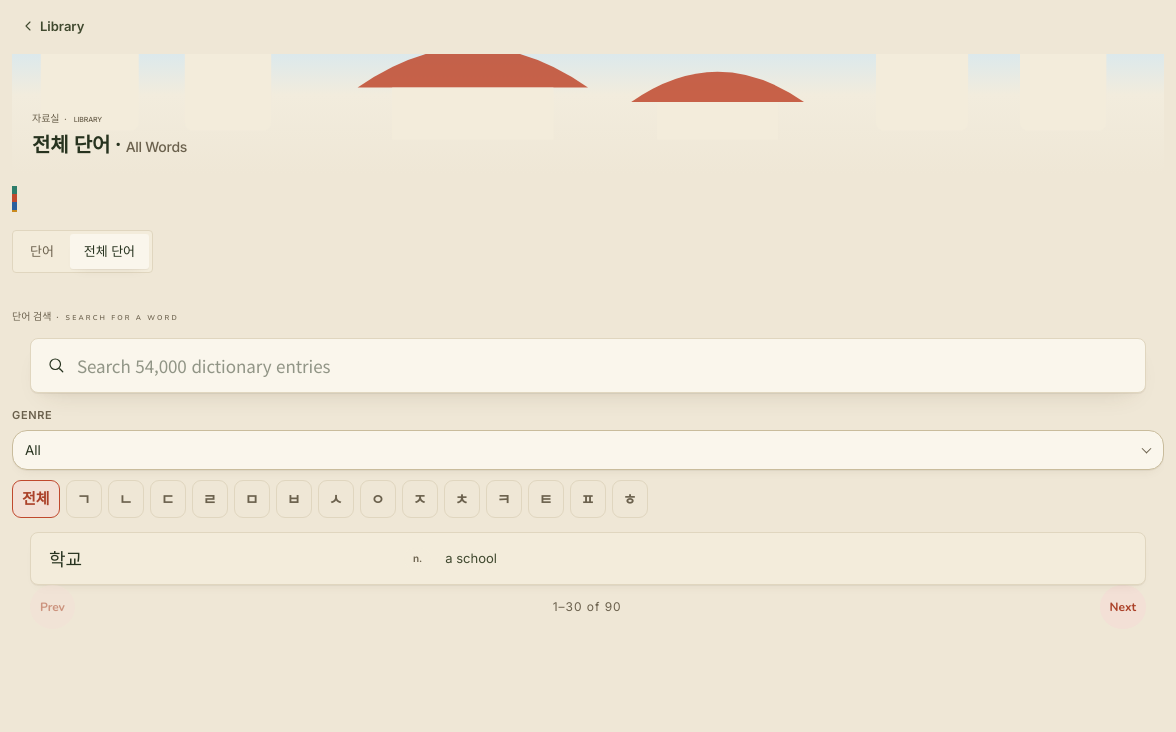
ReviewDictionary — pager › pages the KRDICT browse with Prev/Next and an honest range readout
The image size is (1176, 732).
Expected: the text "학교" is shown, [49,545,82,571]
Expected: the text "1–30 of 90" is shown, [553,598,622,616]
Click the button "Next" at {"x": 1123, "y": 607}, box [1100,585,1146,629]
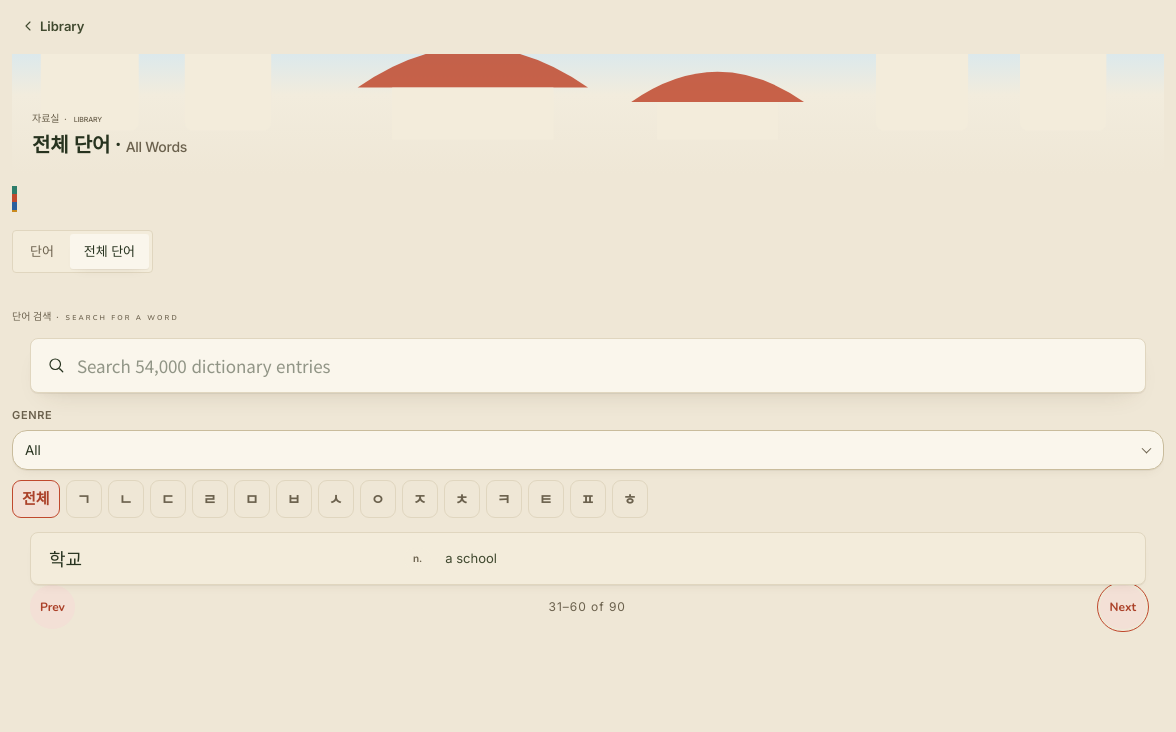
Expected: the text "31–60 of 90" is shown, [549,598,626,616]
Expected: the button "Prev" is enabled
Click the button "Prev" at {"x": 52, "y": 607}, box [30,585,75,629]
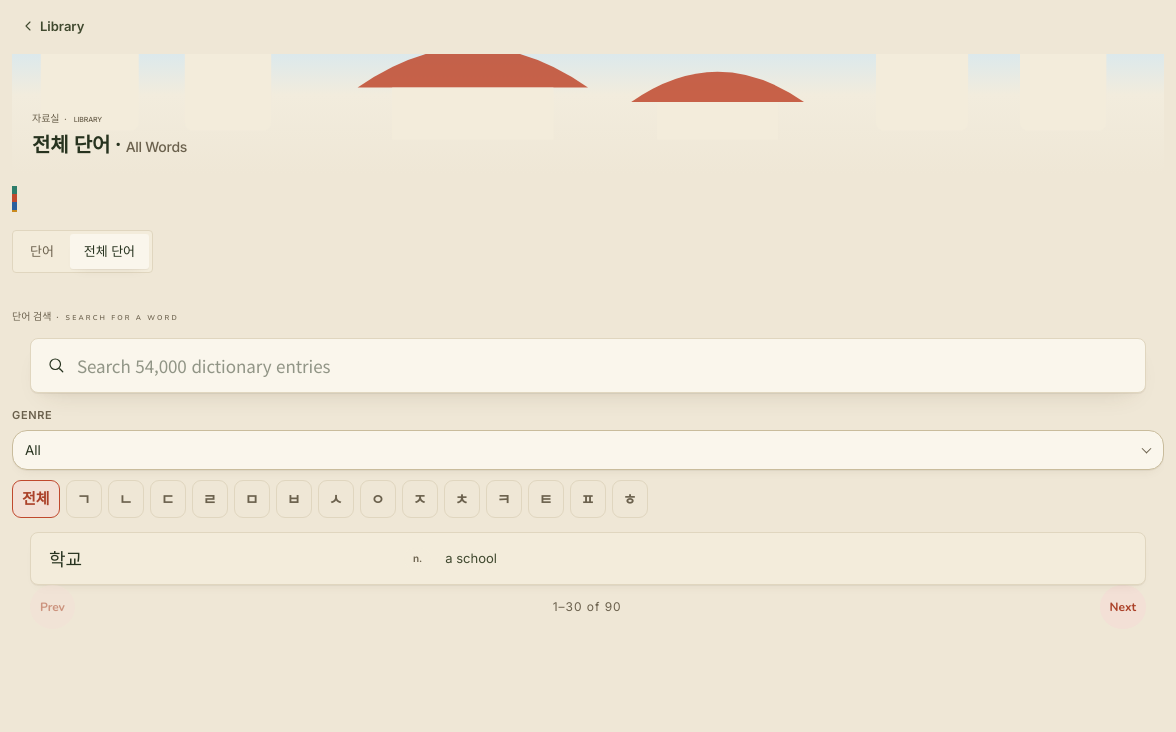
Expected: the text "1–30 of 90" is shown, [553,598,622,616]
